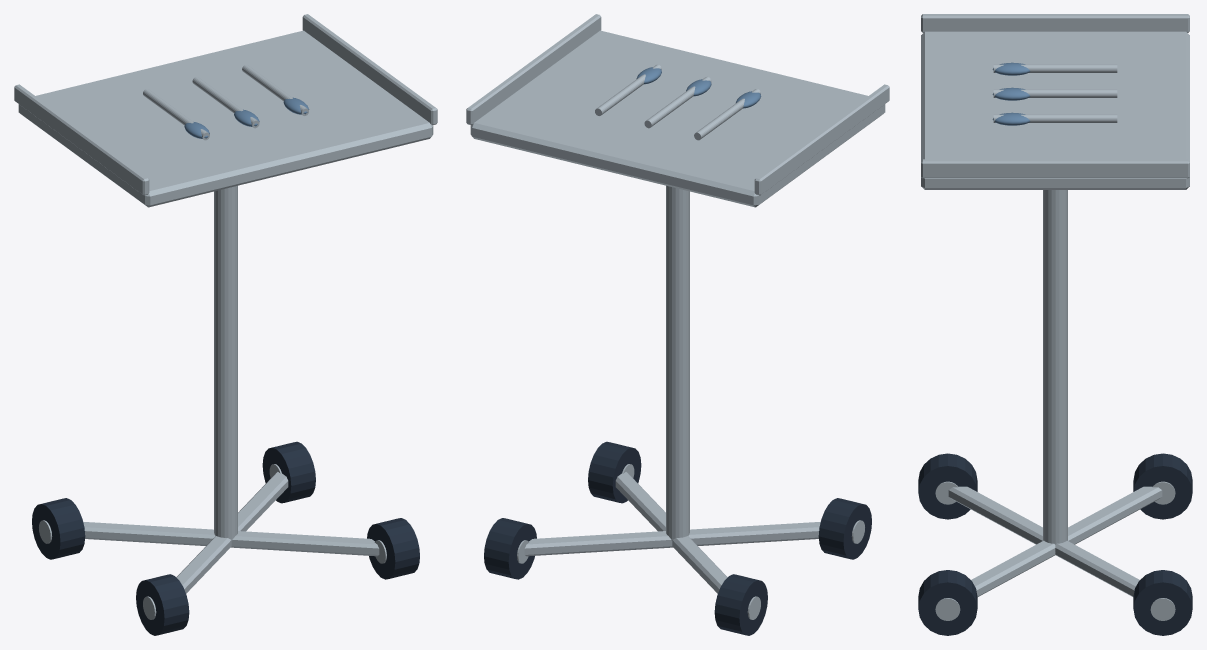
File: medical_10.glb
The picture shows the model from 3 angles, left to right: view 1: azimuth 30°, elevation 25°; view 2: azimuth 150°, elevation 25°; view 3: azimuth 270°, elevation 25°; orthographic projection. The views are drawn at different scales.
Visible parts, largest first — view 1: Tray, Wheel (×4), TrayPedestal, TrayCasterBrace (×2), TrayRim (×2); view 2: Tray, Wheel (×4), TrayPedestal, TrayCasterBrace (×2), TrayRim (×2); view 3: Tray, Wheel (×4), TrayRim (×2), TrayPedestal, TrayCasterBrace (×2), Instrument (×3), WheelHub (×2).
Boxes of the visible parts, <box> form: Tray: <box>18,30,433,207</box>; Wheel (×4): <box>32,441,419,635</box>; TrayPedestal: <box>214,185,237,540</box>; TrayCasterBrace (×2): <box>83,472,379,593</box>; TrayRim (×2): <box>14,14,437,195</box>; Tray: <box>470,30,885,207</box>; Wheel (×4): <box>484,441,871,635</box>; TrayPedestal: <box>666,185,689,540</box>; TrayCasterBrace (×2): <box>524,472,820,593</box>; TrayRim (×2): <box>466,14,889,195</box>; Tray: <box>921,31,1189,189</box>; Wheel (×4): <box>918,453,1192,635</box>; TrayRim (×2): <box>921,14,1189,178</box>; TrayPedestal: <box>1043,190,1067,544</box>; TrayCasterBrace (×2): <box>948,486,1162,596</box>; Instrument (×3): <box>993,64,1117,122</box>; WheelHub (×2): <box>935,598,1175,620</box>.
Size of the model in its own units: 0.655 by 0.9925 by 0.51.
